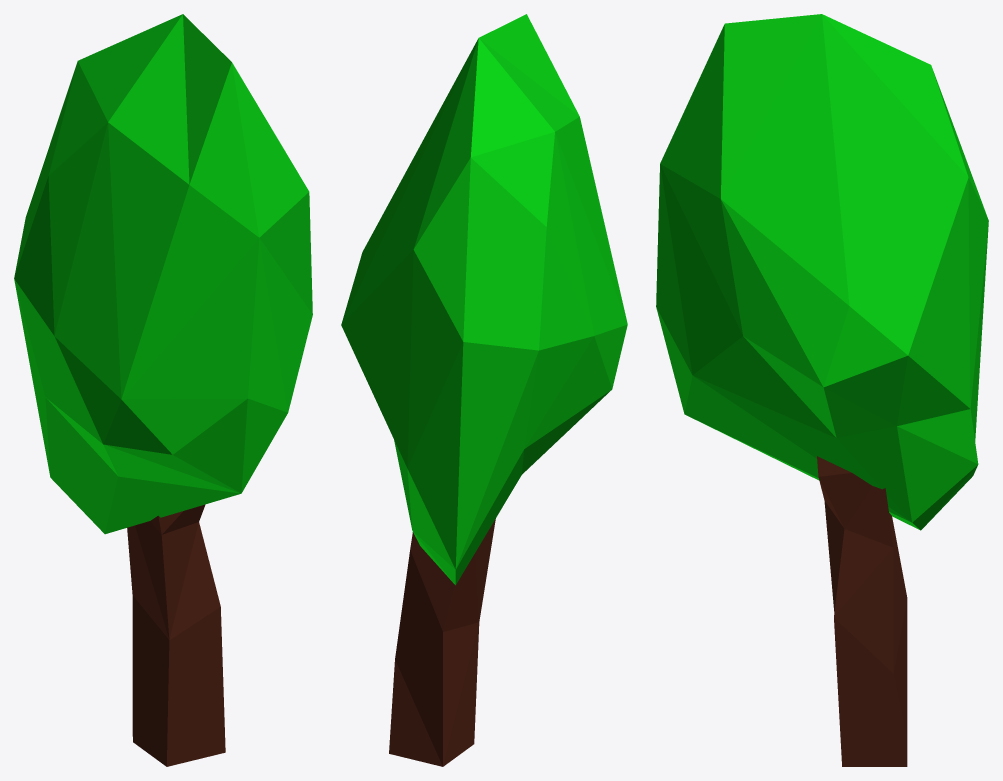
Rendered from Tree_4.fbx.
3 views of the same model, side by side, from view 1: azimuth 30°, elevation 25°; view 2: azimuth 150°, elevation 25°; view 3: azimuth 270°, elevation 25° (orthographic). The views are drawn at different scales.
Visible parts, largest first — view 1: Cube; view 2: Cube; view 3: Cube.
Boxes of the visible parts, x1,y1,x2,y2 form: Cube: [14, 14, 312, 766]; Cube: [341, 14, 627, 766]; Cube: [656, 14, 988, 766].
Size of the model in its own units: 3.23 by 9.24 by 3.83.
